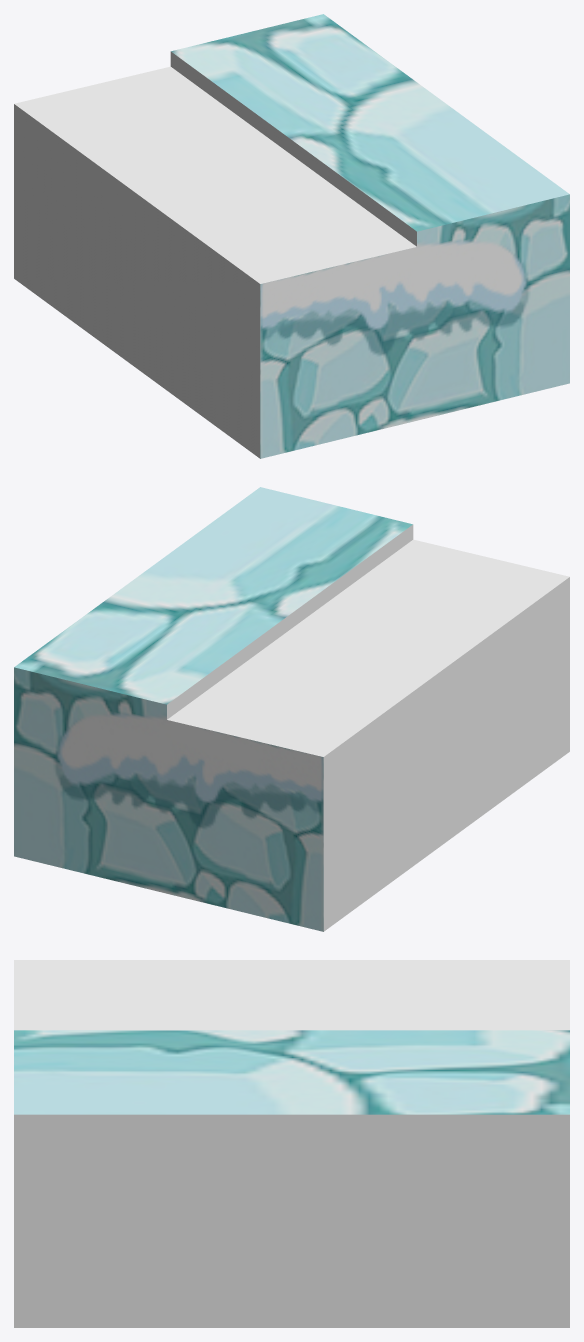
File: Snow_R_4.fbx
The picture shows the model from 3 angles, top to bottom: view 1: azimuth 30°, elevation 25°; view 2: azimuth 150°, elevation 25°; view 3: azimuth 270°, elevation 25°; orthographic projection. The views are drawn at different scales.
Visible parts, largest first — view 1: Snow_R_4; view 2: Snow_R_4; view 3: Snow_R_4.
Boxes of the visible parts, <box> form: Snow_R_4: <box>14,14,569,458</box>; Snow_R_4: <box>14,487,569,931</box>; Snow_R_4: <box>14,960,569,1327</box>.
Bounding box in the file's own units: 3.09 × 1.8 × 4.26.
Materials: 1 (1 with a texture image).
